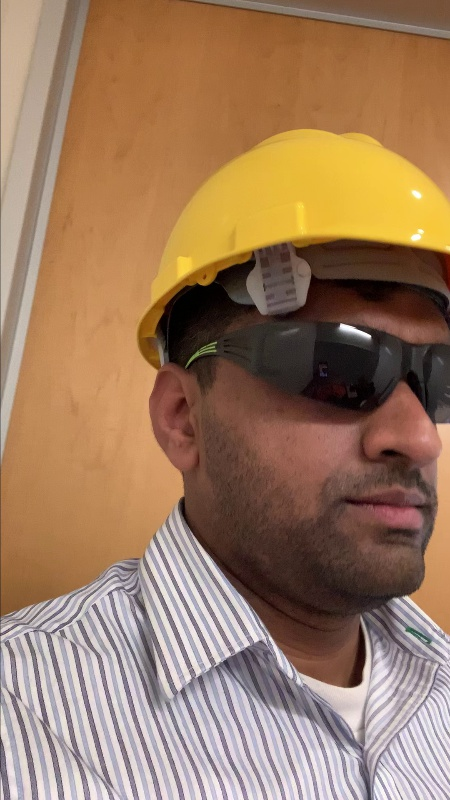glasses: (181, 312, 450, 428)
helmet: (122, 119, 450, 306)
